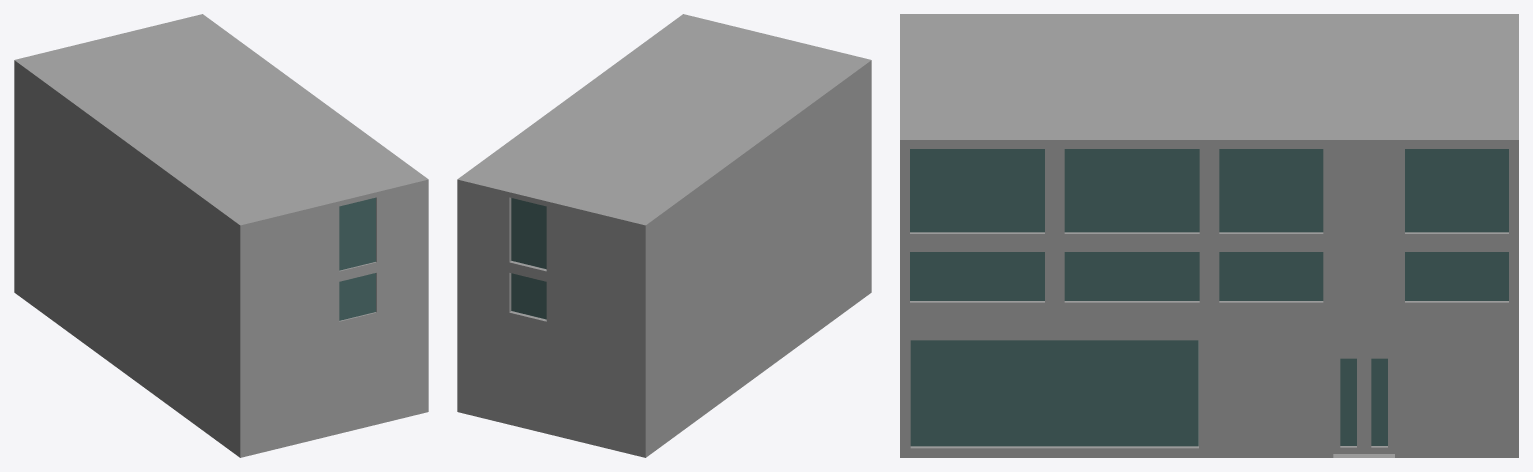
Rendered from HOUSE.fbx.
3 renders of one model, left to right at view 1: azimuth 30°, elevation 25°; view 2: azimuth 150°, elevation 25°; view 3: azimuth 270°, elevation 25°, orthographic. The views are drawn at different scales.
Visible parts, largest first — view 1: House; view 2: House; view 3: House, Glass.
Part boxes in pixels (bbox=[...]): House: bbox=[14, 14, 428, 457]; House: bbox=[457, 14, 871, 457]; House: bbox=[900, 14, 1518, 457]; Glass: bbox=[910, 340, 1198, 446].
Size of the model in its own units: 0.4191 by 0.4939 by 0.8705.
